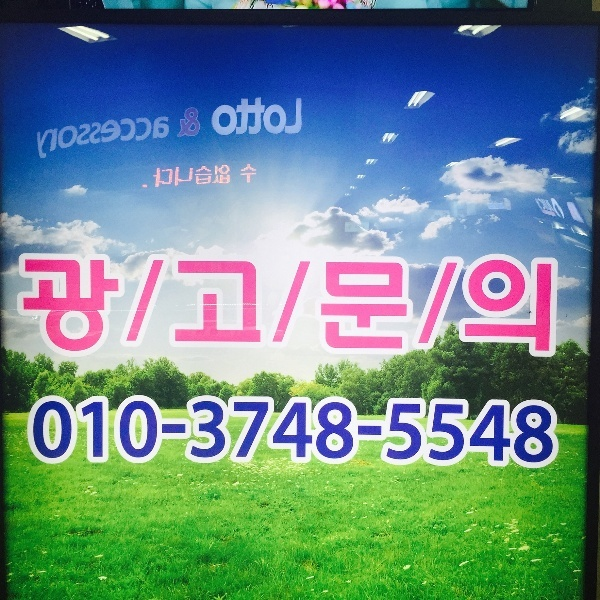text: (33, 253, 48, 362), (49, 253, 64, 362), (65, 253, 80, 362), (81, 253, 96, 362), (97, 253, 112, 362), (113, 253, 128, 362), (129, 253, 144, 362), (145, 253, 160, 362), (161, 253, 176, 362), (177, 253, 192, 362), (193, 253, 208, 362), (209, 253, 224, 362), (225, 253, 240, 362), (241, 253, 256, 362), (257, 253, 272, 362), (273, 253, 288, 362), (289, 253, 304, 362), (305, 253, 320, 362), (321, 253, 336, 362), (337, 253, 352, 362), (353, 253, 368, 362), (369, 253, 384, 362), (385, 253, 400, 362), (401, 253, 416, 362), (417, 253, 432, 362), (433, 253, 448, 362), (449, 253, 464, 362), (465, 253, 480, 362), (481, 253, 496, 362), (497, 253, 512, 362), (513, 253, 528, 362), (529, 253, 544, 362), (18, 253, 32, 362), (545, 253, 559, 362), (33, 393, 48, 471), (49, 393, 64, 471), (65, 393, 80, 471), (81, 393, 96, 471), (97, 393, 112, 471), (113, 393, 128, 471), (129, 393, 144, 471), (145, 393, 160, 471), (161, 393, 176, 471), (177, 393, 192, 471), (193, 393, 208, 471), (209, 393, 224, 471), (225, 393, 240, 471), (241, 393, 256, 471), (257, 393, 272, 471), (273, 393, 288, 471), (289, 393, 304, 471), (305, 393, 320, 471), (321, 393, 336, 471), (337, 393, 352, 471), (353, 393, 368, 471), (369, 393, 384, 471), (385, 393, 400, 471), (401, 393, 416, 471), (417, 393, 432, 471), (433, 393, 448, 471), (449, 393, 464, 471), (465, 393, 480, 471), (481, 393, 496, 471), (497, 393, 512, 471), (513, 393, 528, 471), (529, 393, 544, 471), (545, 393, 559, 471), (49, 112, 64, 161), (65, 112, 80, 161), (81, 112, 96, 161), (97, 112, 112, 161), (113, 112, 128, 161), (129, 112, 144, 161), (145, 112, 160, 161), (225, 97, 240, 138), (241, 97, 256, 138), (257, 97, 272, 138), (273, 97, 288, 138), (36, 112, 48, 161), (289, 97, 303, 138), (161, 112, 172, 161), (211, 97, 224, 138), (161, 164, 176, 191), (177, 164, 192, 191), (193, 164, 208, 191), (209, 164, 224, 191), (181, 108, 192, 140), (241, 164, 257, 185), (193, 108, 201, 140), (29, 393, 32, 471), (153, 164, 160, 191), (225, 164, 231, 191)
